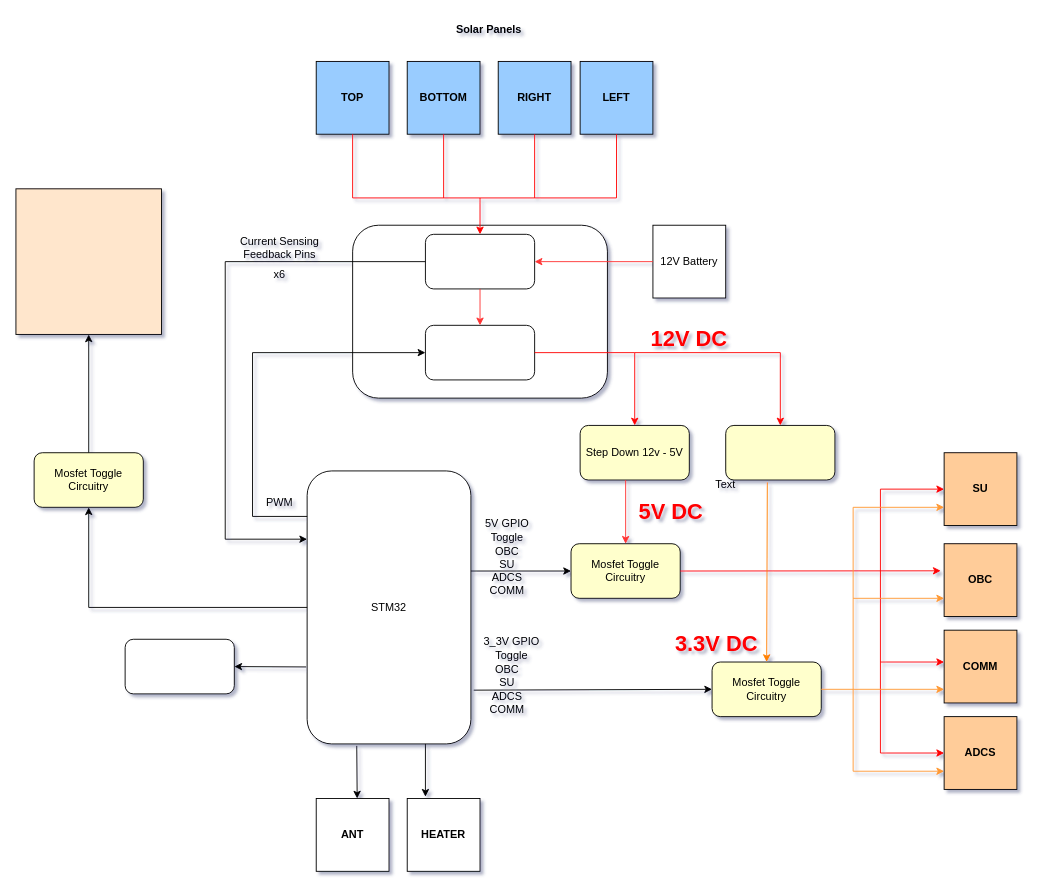
Some shapes in this 1038 by 893 pixel diagram are drawn without their labels. Here are the shapes that lost their labels. From the top down, the centre of each, then its label:
At point (88, 261): "Panel Deployments (Top, Bottomt, Right, left)".
At point (480, 261): "Current Monitoring".
At point (480, 352): "PWM N-Channel Mosfet".
At point (780, 452): "Step Down 12v - 3.3V".
At point (179, 666): "I2C Reset".
